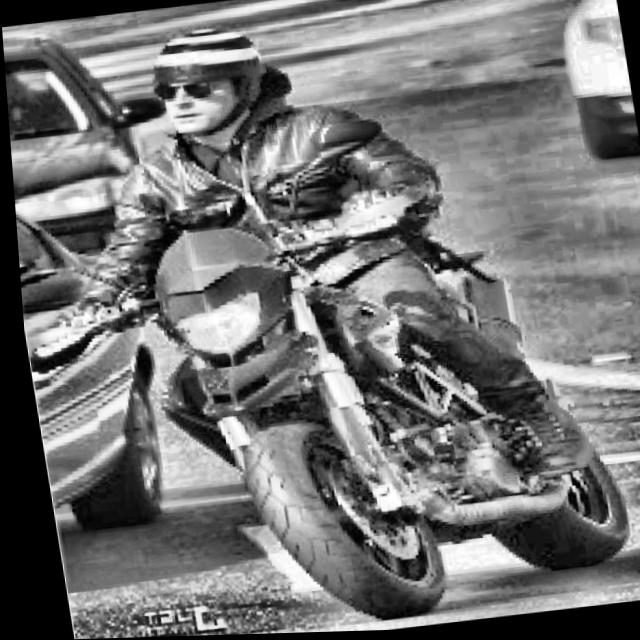motorcycle: (6, 93, 640, 640)
